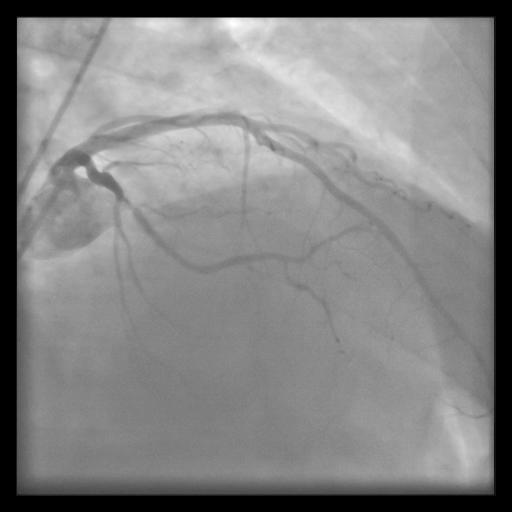Stenosis: (114, 188, 152, 220)
